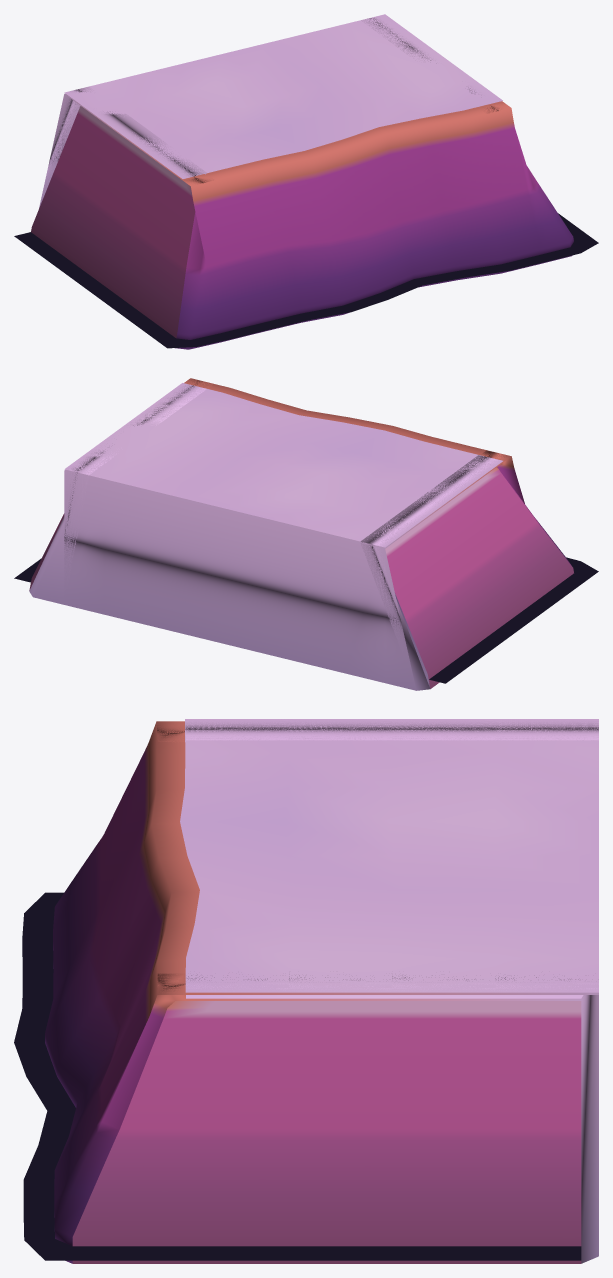
File: ledge_glitter_single.glb
3 renders of one model, top to bottom at view 1: azimuth 30°, elevation 25°; view 2: azimuth 150°, elevation 25°; view 3: azimuth 270°, elevation 25°, orthographic. The views are drawn at different scales.
Parts seen in each view (by area): view 1: Ledge.001; view 2: Ledge.001; view 3: Ledge.001.
Boxes of the visible parts, <box> form: Ledge.001: <box>14,14,598,349</box>; Ledge.001: <box>14,378,598,690</box>; Ledge.001: <box>14,719,598,1263</box>.
Size of the model in its own units: 1.08 by 0.323 by 0.7226.
